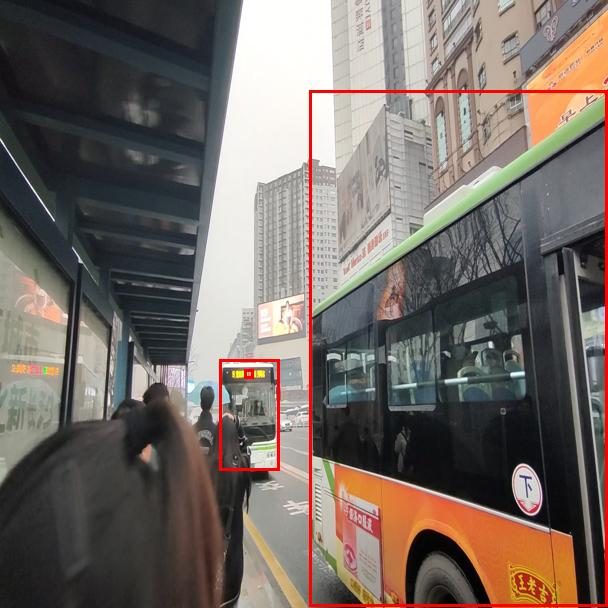bus: (309, 90, 607, 606), (219, 359, 279, 470)
screen: (244, 369, 253, 378)
